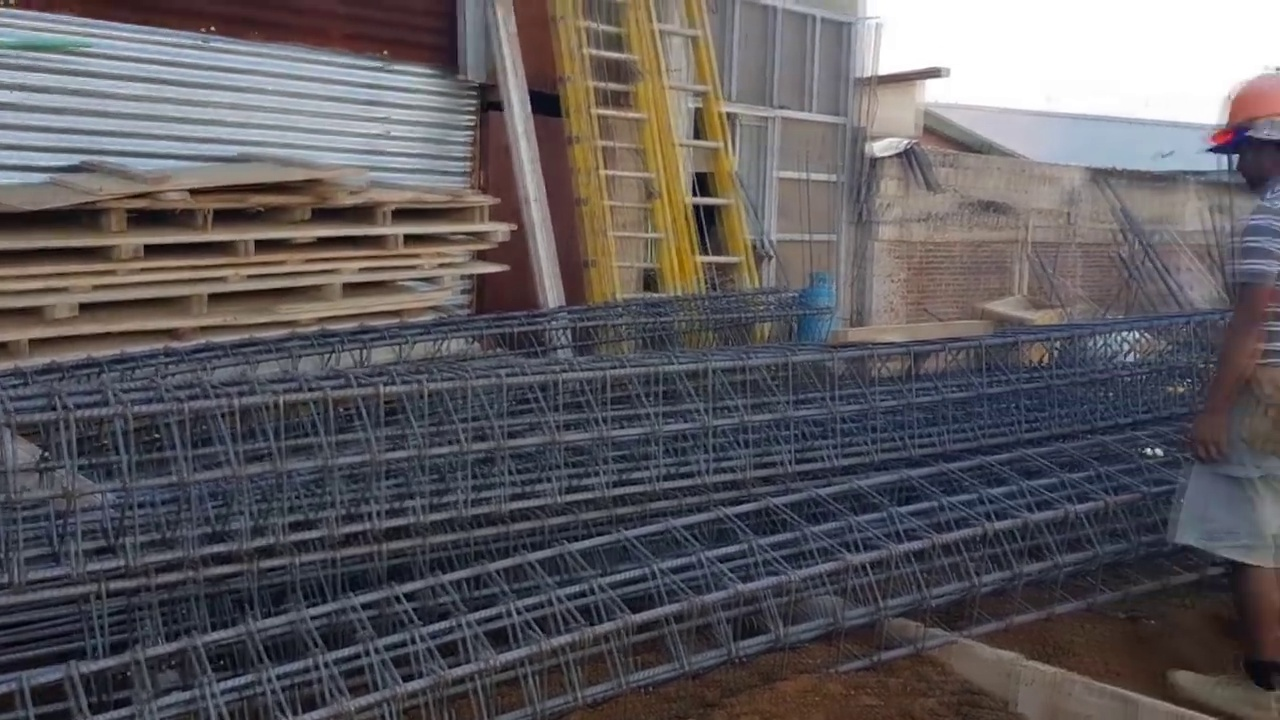helmet: (1201, 68, 1280, 155)
helmet-on: (1200, 68, 1280, 204)
person: (1174, 67, 1279, 716)
